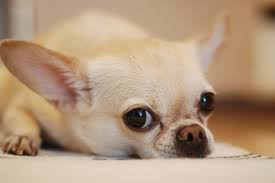chihuahua: (2, 11, 242, 176)
